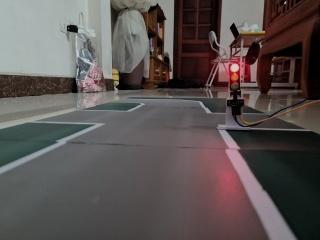red: (224, 52, 245, 104)
